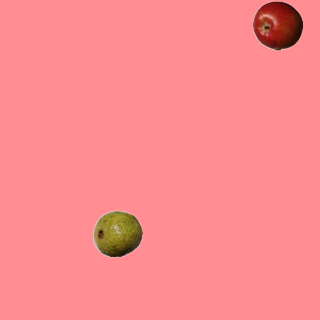Apple Braeburn: (252, 0, 302, 50)
Guava: (92, 208, 142, 258)
